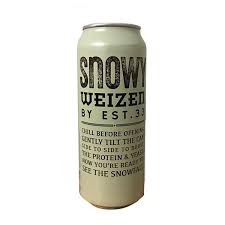can: (74, 21, 155, 211)
